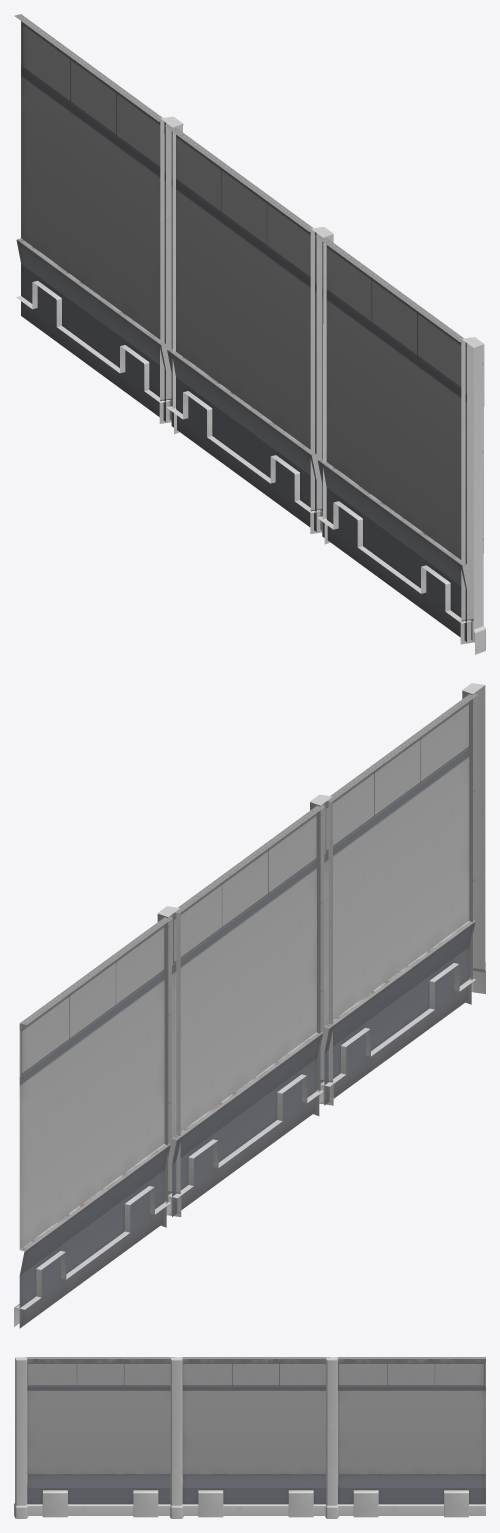
File: Pfb_JALB_WallPart2_Line__24.fbx
The picture shows the model from 3 angles, top to bottom: view 1: azimuth 30°, elevation 25°; view 2: azimuth 150°, elevation 25°; view 3: azimuth 270°, elevation 25°; orthographic projection. The views are drawn at different scales.
Visible parts, largest first — view 1: MAT_JLABWall; view 2: MAT_JLABWall; view 3: MAT_JLABWall.
Part boxes in pixels (<box>): MAT_JLABWall: <box>14,14,485,654</box>; MAT_JLABWall: <box>14,683,485,1328</box>; MAT_JLABWall: <box>14,1357,485,1518</box>.
Bounding box in the file's own units: 0.2509 × 4.04 × 10.94.
1 material, 1 textured.
